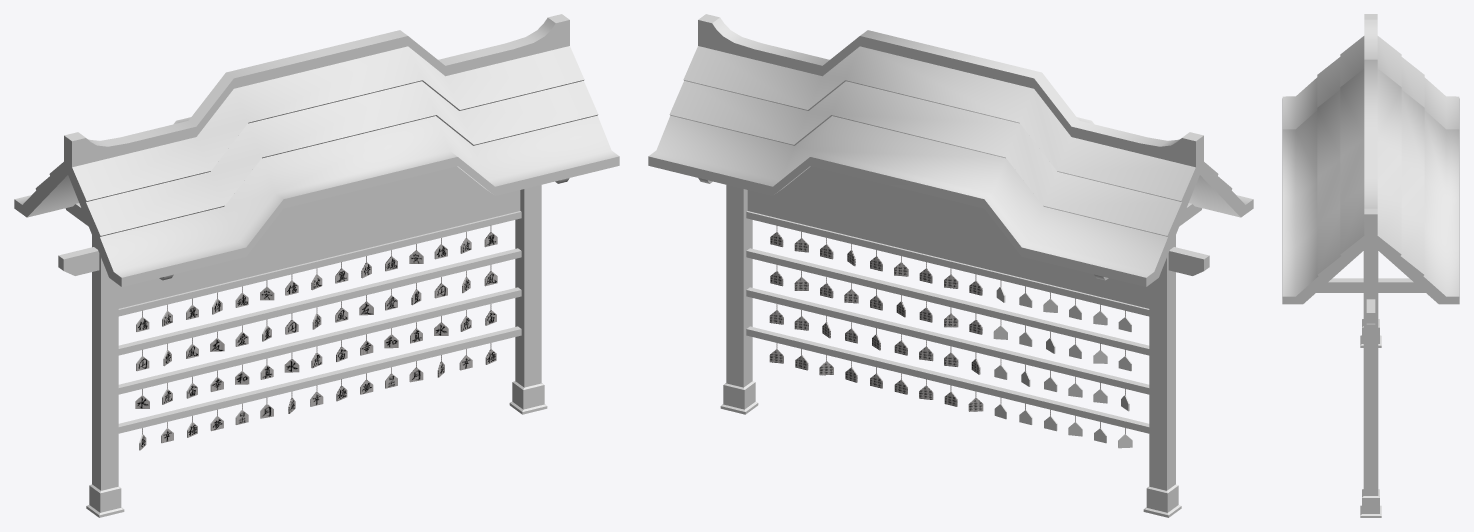
File: Ema_1_Stand_large.fbx
3 renders of one model, left to right at view 1: azimuth 30°, elevation 25°; view 2: azimuth 150°, elevation 25°; view 3: azimuth 270°, elevation 25°, orthographic. The views are drawn at different scales.
Visible parts, largest first — view 1: Plane.048; view 2: Plane.048; view 3: Plane.048.
Boxes of the visible parts, x1,y1,x2,y2 form: Plane.048: [14, 14, 619, 517]; Plane.048: [648, 14, 1253, 517]; Plane.048: [1282, 14, 1459, 517].
Bounding box in the file's own units: 410 × 310 × 150.
